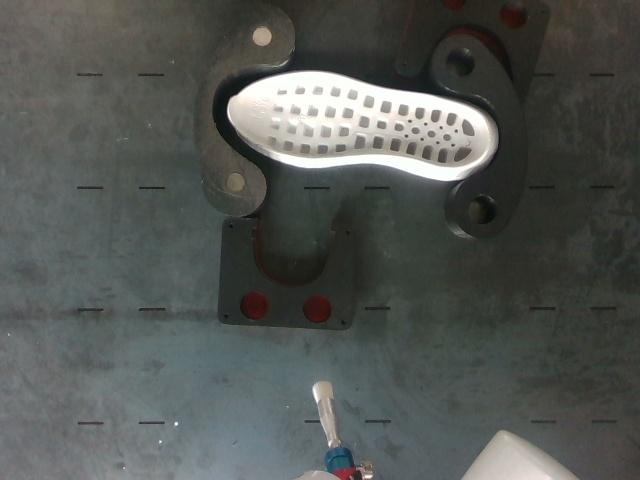shoes: (228, 72, 491, 167)
